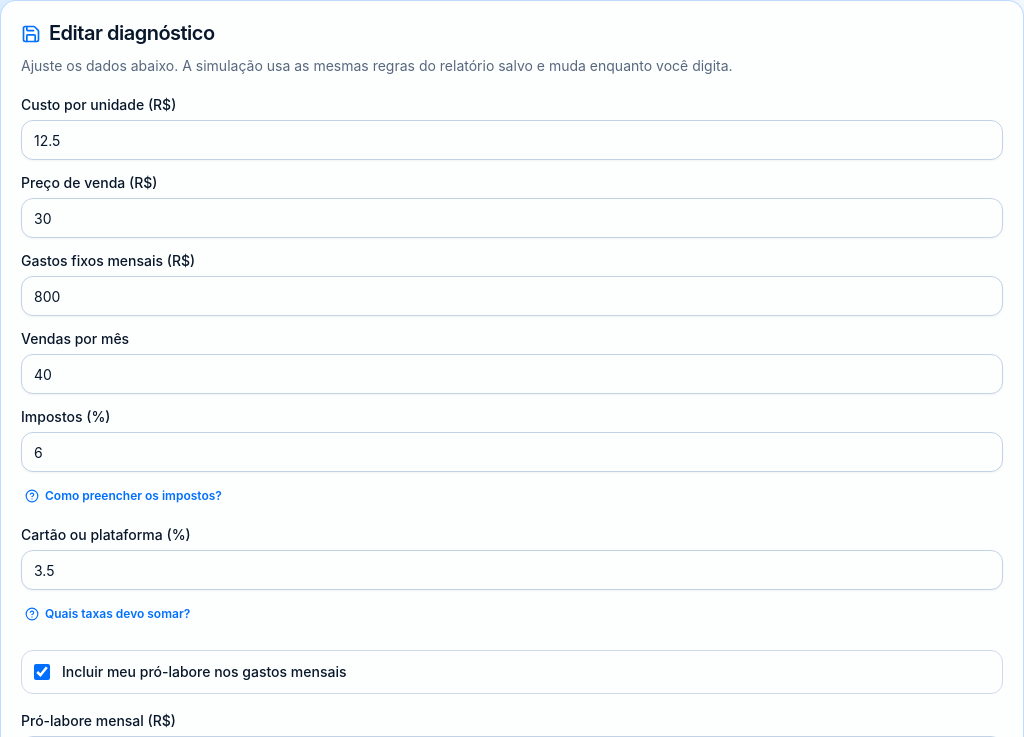
Test: ReportEditor › explains taxes and platform fees while editing
Click the button "Como preencher os impostos?".
click(123, 496)  # box [21,480,226,512]
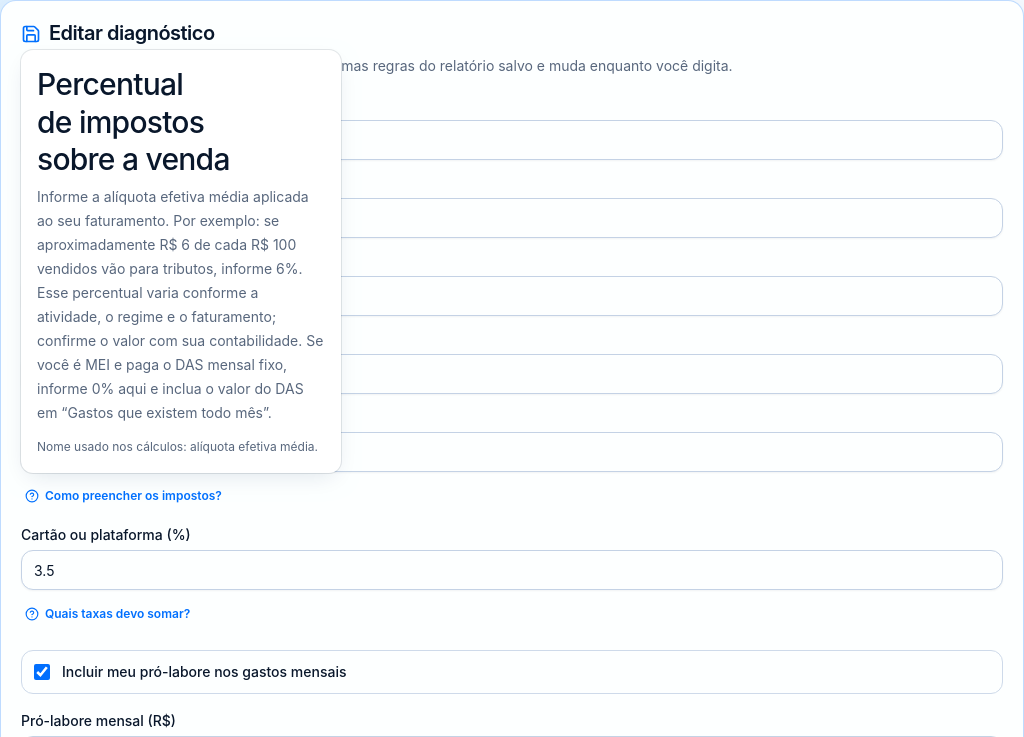
Expected: the heading "Percentual de impostos sobre a venda" is shown, [37,66,230,177]
Expected: the text "“Gastos que existem todo mês”." is shown, [37,188,323,420]
Press Escape
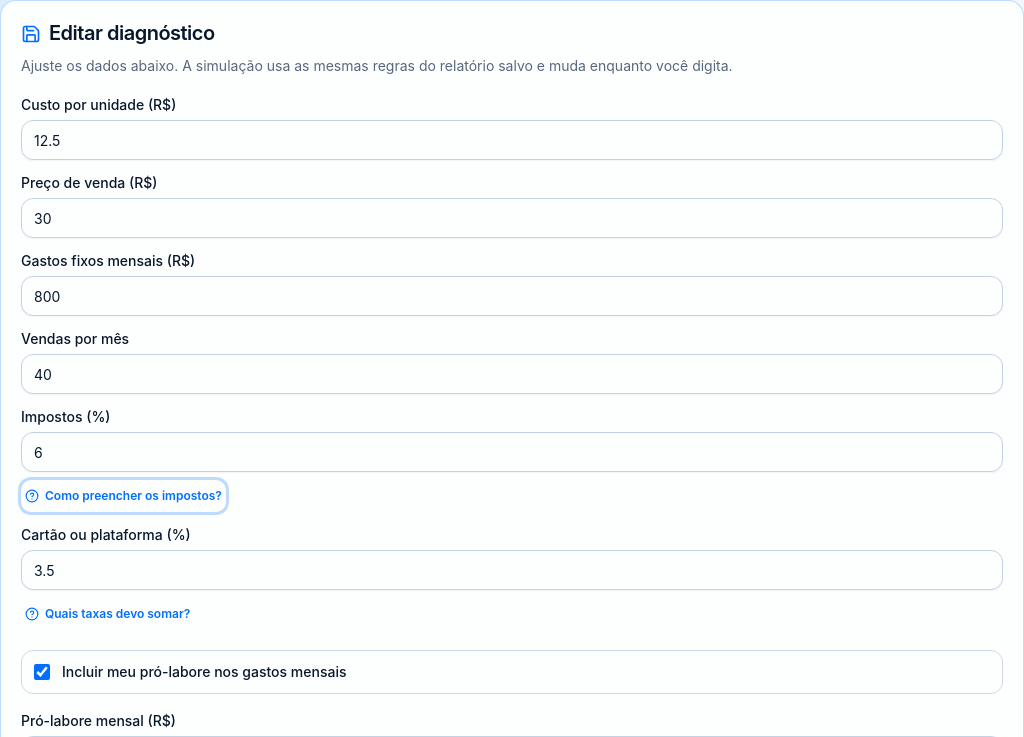
Click the button "Quais taxas devo somar?".
click(108, 614)  # box [21,598,194,630]
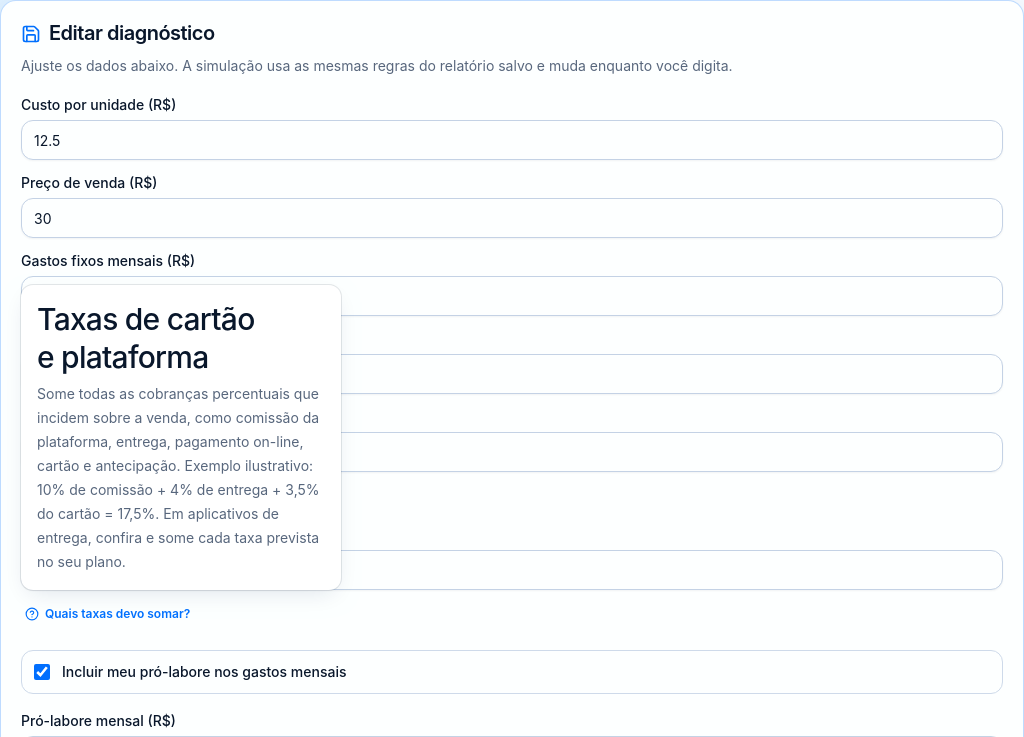
Expected: the text "comissão da plataforma" is shown, [37,385,320,570]
